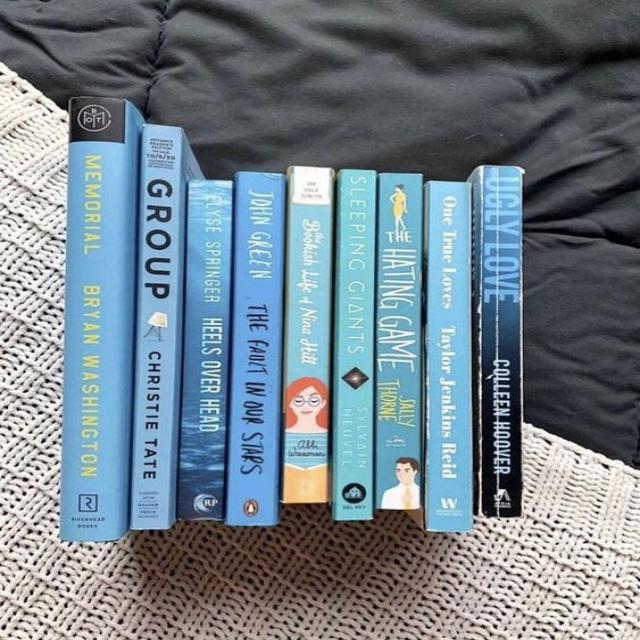book: (59, 99, 143, 541), (130, 125, 189, 529), (225, 172, 284, 526), (177, 180, 231, 520), (471, 166, 522, 516), (281, 167, 333, 504), (424, 181, 473, 531), (374, 174, 422, 510), (331, 169, 376, 519)
